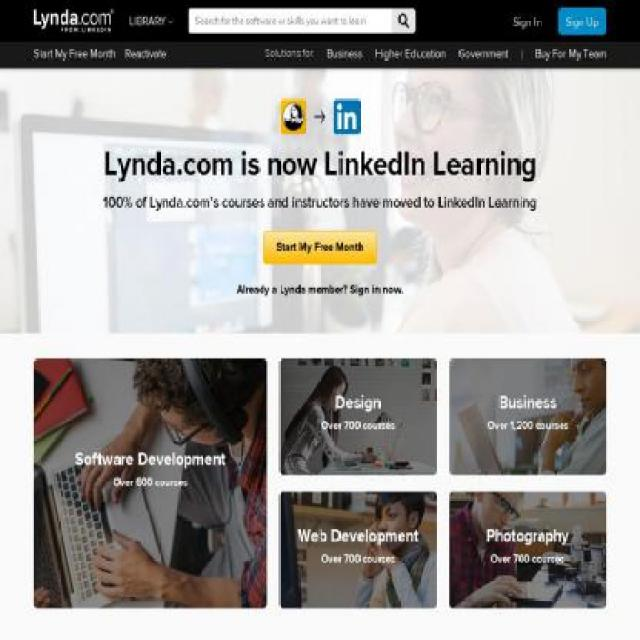button: (263, 230, 377, 264), (34, 0, 112, 42), (34, 42, 115, 66), (122, 7, 182, 36), (374, 42, 446, 66), (535, 42, 607, 66), (559, 8, 606, 35), (458, 42, 508, 66), (506, 8, 548, 35), (125, 42, 166, 66), (327, 42, 362, 66), (392, 9, 416, 33)
field: (187, 7, 416, 36)
